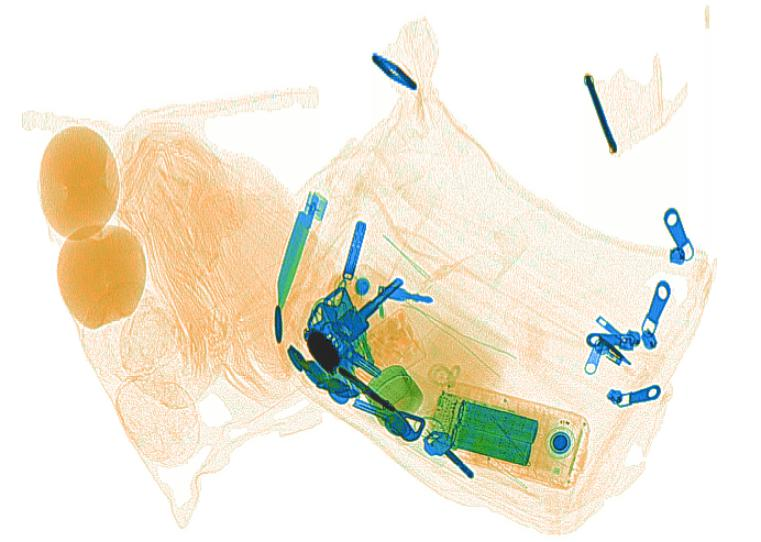battery: (443, 398, 538, 467)
knife: (273, 187, 326, 348)
